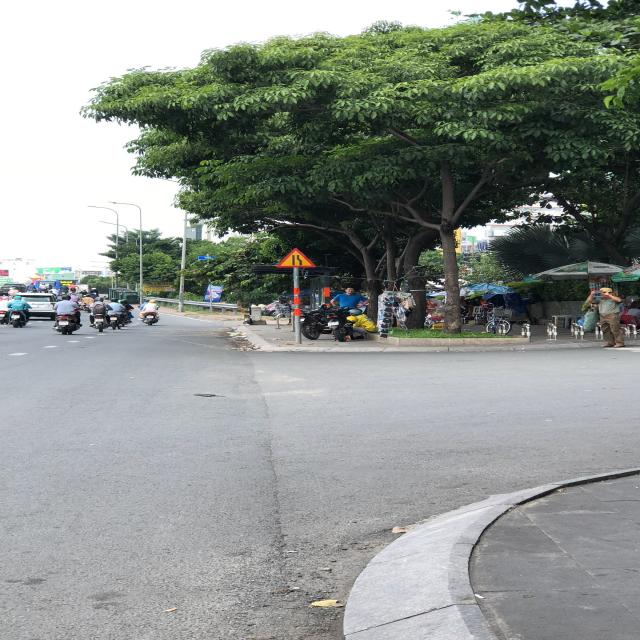Bien bao duong bi thu hep: (274, 247, 317, 268)
